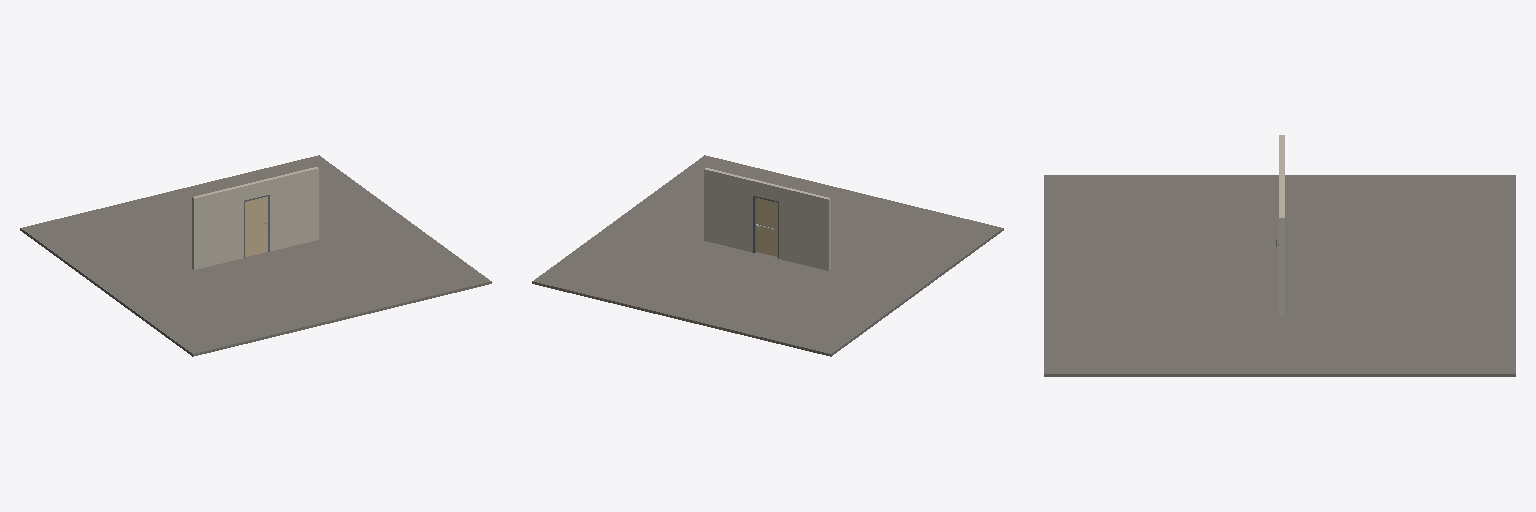
URDF robot description (db0584_swing_single_minimal):
<?xml version="1.0" ?>
<robot xmlns:doorbench="https://github.com/adamraudonis/DoorBench/schema/urdf-ext" name="db0584_swing_single_minimal">
  <link name="world_env">
    <visual name="floor_vis">
      <origin xyz="0 0 -0.05" rpy="0 0 0"/>
      <geometry>
        <box size="12 12 0.1"/>
      </geometry>
      <material name="mat_floor"/>
    </visual>
    <collision name="floor_col">
      <origin xyz="0 0 -0.05" rpy="0 0 0"/>
      <geometry>
        <box size="12 12 0.1"/>
      </geometry>
    </collision>
    <visual name="wall_left_vis">
      <origin xyz="-1.50525 0.0435 1.3735" rpy="0 0 0"/>
      <geometry>
        <box size="1.9895 0.145 2.747"/>
      </geometry>
      <material name="mat_wall"/>
    </visual>
    <collision name="wall_left_col">
      <origin xyz="-1.50525 0.0435 1.3735" rpy="0 0 0"/>
      <geometry>
        <box size="1.9895 0.145 2.747"/>
      </geometry>
    </collision>
    <visual name="wall_right_vis">
      <origin xyz="1.52025 0.0435 1.3735" rpy="0 0 0"/>
      <geometry>
        <box size="1.9595 0.145 2.747"/>
      </geometry>
      <material name="mat_wall"/>
    </visual>
    <collision name="wall_right_col">
      <origin xyz="1.52025 0.0435 1.3735" rpy="0 0 0"/>
      <geometry>
        <box size="1.9595 0.145 2.747"/>
      </geometry>
    </collision>
    <visual name="wall_header_vis">
      <origin xyz="0.015 0.0435 2.487" rpy="0 0 0"/>
      <geometry>
        <box size="1.051 0.145 0.52"/>
      </geometry>
      <material name="mat_wall"/>
    </visual>
    <collision name="wall_header_col">
      <origin xyz="0.015 0.0435 2.487" rpy="0 0 0"/>
      <geometry>
        <box size="1.051 0.145 0.52"/>
      </geometry>
    </collision>
    <visual name="jamb_hinge_vis">
      <origin xyz="-0.4855 0.0435 1.0735" rpy="0 0 0"/>
      <geometry>
        <box size="0.05 0.145 2.147"/>
      </geometry>
      <material name="mat_frame"/>
    </visual>
    <collision name="jamb_hinge_col">
      <origin xyz="-0.4855 0.0435 1.0735" rpy="0 0 0"/>
      <geometry>
        <box size="0.05 0.145 2.147"/>
      </geometry>
    </collision>
    <visual name="strike_1040_wall_n_vis">
      <origin xyz="0.5005 0.0855 1.04" rpy="0 0 0"/>
      <geometry>
        <box size="0.08 0.061 0.04"/>
      </geometry>
      <material name="mat_frame"/>
    </visual>
    <collision name="strike_1040_wall_n_col">
      <origin xyz="0.5005 0.0855 1.04" rpy="0 0 0"/>
      <geometry>
        <box size="0.08 0.061 0.04"/>
      </geometry>
    </collision>
    <visual name="strike_1040_wall_p_vis">
      <origin xyz="0.5005 0.025 1.04" rpy="0 0 0"/>
      <geometry>
        <box size="0.08 0.016 0.04"/>
      </geometry>
      <material name="mat_frame"/>
    </visual>
    <collision name="strike_1040_wall_p_col">
      <origin xyz="0.5005 0.025 1.04" rpy="0 0 0"/>
      <geometry>
        <box size="0.08 0.016 0.04"/>
      </geometry>
    </collision>
    <visual name="strike_1040_ramp_vis">
      <origin xyz="0.508781 -0.0044 1.04" rpy="0 0 0.294235"/>
      <geometry>
        <box size="0.08 0.068964 0.04"/>
      </geometry>
      <material name="mat_frame"/>
    </visual>
    <collision name="strike_1040_ramp_col">
      <origin xyz="0.508781 -0.0044 1.04" rpy="0 0 0.294235"/>
      <geometry>
        <box size="0.08 0.068964 0.04"/>
      </geometry>
    </collision>
    <visual name="strike_1040_back_vis">
      <origin xyz="0.512 0.044 1.04" rpy="0 0 0"/>
      <geometry>
        <box size="0.057 0.022 0.04"/>
      </geometry>
      <material name="mat_frame"/>
    </visual>
    <collision name="strike_1040_back_col">
      <origin xyz="0.512 0.044 1.04" rpy="0 0 0"/>
      <geometry>
        <box size="0.057 0.022 0.04"/>
      </geometry>
    </collision>
    <visual name="jamb_strike_0_vis">
      <origin xyz="0.5005 0.0435 0.51" rpy="0 0 0"/>
      <geometry>
        <box size="0.08 0.145 1.02"/>
      </geometry>
      <material name="mat_frame"/>
    </visual>
    <collision name="jamb_strike_0_col">
      <origin xyz="0.5005 0.0435 0.51" rpy="0 0 0"/>
      <geometry>
        <box size="0.08 0.145 1.02"/>
      </geometry>
    </collision>
    <visual name="jamb_strike_1_vis">
      <origin xyz="0.5005 0.0435 1.6035" rpy="0 0 0"/>
      <geometry>
        <box size="0.08 0.145 1.087"/>
      </geometry>
      <material name="mat_frame"/>
    </visual>
    <collision name="jamb_strike_1_col">
      <origin xyz="0.5005 0.0435 1.6035" rpy="0 0 0"/>
      <geometry>
        <box size="0.08 0.145 1.087"/>
      </geometry>
    </collision>
    <visual name="jamb_head_vis">
      <origin xyz="0.015 0.0435 2.172" rpy="0 0 0"/>
      <geometry>
        <box size="1.051 0.145 0.05"/>
      </geometry>
      <material name="mat_frame"/>
    </visual>
    <collision name="jamb_head_col">
      <origin xyz="0.015 0.0435 2.172" rpy="0 0 0"/>
      <geometry>
        <box size="1.051 0.145 0.05"/>
      </geometry>
    </collision>
    <visual name="head_stud_vis">
      <origin xyz="0.015 0.0435 2.212" rpy="0 0 0"/>
      <geometry>
        <box size="1.051 0.145 0.03"/>
      </geometry>
      <material name="mat_wall"/>
    </visual>
    <collision name="head_stud_col">
      <origin xyz="0.015 0.0435 2.212" rpy="0 0 0"/>
      <geometry>
        <box size="1.051 0.145 0.03"/>
      </geometry>
    </collision>
    <visual name="stop_hinge_vis">
      <origin xyz="-0.455 0.0385 1.0735" rpy="0 0 0"/>
      <geometry>
        <box size="0.011 0.032 2.147"/>
      </geometry>
      <material name="mat_frame"/>
    </visual>
    <collision name="stop_hinge_col">
      <origin xyz="-0.455 0.0385 1.0735" rpy="0 0 0"/>
      <geometry>
        <box size="0.011 0.032 2.147"/>
      </geometry>
    </collision>
    <visual name="stop_strike_vis">
      <origin xyz="0.455 0.0385 0.49625" rpy="0 0 0"/>
      <geometry>
        <box size="0.011 0.032 0.9925"/>
      </geometry>
      <material name="mat_frame"/>
    </visual>
    <collision name="stop_strike_col">
      <origin xyz="0.455 0.0385 0.49625" rpy="0 0 0"/>
      <geometry>
        <box size="0.011 0.032 0.9925"/>
      </geometry>
    </collision>
    <visual name="stop_strike_1_vis">
      <origin xyz="0.455 0.0385 1.61725" rpy="0 0 0"/>
      <geometry>
        <box size="0.011 0.032 1.0595"/>
      </geometry>
      <material name="mat_frame"/>
    </visual>
    <collision name="stop_strike_1_col">
      <origin xyz="0.455 0.0385 1.61725" rpy="0 0 0"/>
      <geometry>
        <box size="0.011 0.032 1.0595"/>
      </geometry>
    </collision>
    <visual name="stop_head_vis">
      <origin xyz="0 0.0385 2.1415" rpy="0 0 0"/>
      <geometry>
        <box size="0.921 0.032 0.011"/>
      </geometry>
      <material name="mat_frame"/>
    </visual>
    <collision name="stop_head_col">
      <origin xyz="0 0.0385 2.1415" rpy="0 0 0"/>
      <geometry>
        <box size="0.921 0.032 0.011"/>
      </geometry>
    </collision>
  </link>
  <link name="leaf">
    <inertial>
      <origin xyz="0.470418 0.030551 1.07387" rpy="0 0 0"/>
      <mass value="57.815147"/>
      <inertia ixx="20.667125875" ixy="-0.016153881" ixz="0.026275449" iyy="24.784758235" iyz="0.00303802" izz="4.153971404"/>
    </inertial>
    <visual name="leaf_slab_vis">
      <origin xyz="0.457 0.029 1.076" rpy="0 0 0"/>
      <geometry>
        <box size="0.914 0.044 2.134"/>
      </geometry>
      <material name="mat_leaf"/>
    </visual>
    <collision name="leaf_slab_col">
      <origin xyz="0.457 0.029 1.076" rpy="0 0 0"/>
      <geometry>
        <box size="0.914 0.044 2.134"/>
      </geometry>
    </collision>
    <visual name="leaf_exit_device_rail_vis">
      <origin xyz="0.51695 0.057 1.04" rpy="0 0 0"/>
      <geometry>
        <box size="0.6341 0.012 0.05"/>
      </geometry>
      <material name="mat_op_aluminum"/>
    </visual>
    <collision name="leaf_exit_device_rail_col">
      <origin xyz="0.51695 0.057 1.04" rpy="0 0 0"/>
      <geometry>
        <box size="0.6341 0.012 0.05"/>
      </geometry>
    </collision>
    <visual name="leaf_exit_device_rail_end_n_vis">
      <origin xyz="0.2099 0.0835 1.04" rpy="0 0 0"/>
      <geometry>
        <box size="0.02 0.065 0.05"/>
      </geometry>
      <material name="mat_op_aluminum"/>
    </visual>
    <collision name="leaf_exit_device_rail_end_n_col">
      <origin xyz="0.2099 0.0835 1.04" rpy="0 0 0"/>
      <geometry>
        <box size="0.02 0.065 0.05"/>
      </geometry>
    </collision>
    <visual name="leaf_exit_device_rail_end_p_vis">
      <origin xyz="0.824 0.0835 1.04" rpy="0 0 0"/>
      <geometry>
        <box size="0.02 0.065 0.05"/>
      </geometry>
      <material name="mat_op_aluminum"/>
    </visual>
    <collision name="leaf_exit_device_rail_end_p_col">
      <origin xyz="0.824 0.0835 1.04" rpy="0 0 0"/>
      <geometry>
        <box size="0.02 0.065 0.05"/>
      </geometry>
    </collision>
    <visual name="leaf_exit_device_case_vis">
      <origin xyz="0.868 0.085125 1.04" rpy="0 0 0"/>
      <geometry>
        <box size="0.068 0.06825 0.075"/>
      </geometry>
      <material name="mat_op_aluminum"/>
    </visual>
    <collision name="leaf_exit_device_case_col">
      <origin xyz="0.868 0.085125 1.04" rpy="0 0 0"/>
      <geometry>
        <box size="0.068 0.06825 0.075"/>
      </geometry>
    </collision>
    <visual name="leaf_far_pull_n_vis">
      <origin xyz="0.824 0.007 1.04" rpy="1.570796 0 0"/>
      <geometry>
        <mesh filename="../../hardware/pull_1e5d69a91a.obj"/>
      </geometry>
      <material name="mat_op_stainless"/>
    </visual>
    <collision name="leaf_far_pull_col_n_col">
      <origin xyz="0.824 -0.053 1.04" rpy="0 0 0"/>
      <geometry>
        <cylinder radius="0.0095" length="0.16"/>
      </geometry>
    </collision>
  </link>
  <link name="leaf_exit_device">
    <inertial>
      <origin xyz="0 0.05 0" rpy="0 0 0"/>
      <mass value="2.381805"/>
      <inertia ixx="0.000580565" ixy="0" ixz="0" iyy="0.069049839" iyz="0" izz="0.068826545"/>
    </inertial>
    <collision name="leaf_exit_device_pad_col_col">
      <origin xyz="0 0.05 0" rpy="0 0 0"/>
      <geometry>
        <box size="0.5881 0.03 0.045"/>
      </geometry>
    </collision>
  </link>
  <link name="leaf_latch_bolt">
    <inertial>
      <origin xyz="-0.0055 0 0" rpy="0 0 0"/>
      <mass value="0.102826"/>
      <inertia ixx="0.000004365" ixy="0" ixz="0" iyy="0.000018287" iyz="0" izz="0.000018287"/>
    </inertial>
    <visual name="leaf_latch_bolt_capsule_vis">
      <origin xyz="-0.0055 0 0" rpy="0 1.570796 0"/>
      <geometry>
        <cylinder radius="0.0095" length="0.03"/>
      </geometry>
      <material name="mat_bolt"/>
    </visual>
    <collision name="leaf_latch_bolt_capsule_col">
      <origin xyz="-0.0055 0 0" rpy="0 1.570796 0"/>
      <geometry>
        <cylinder radius="0.0095" length="0.03"/>
      </geometry>
    </collision>
  </link>
  <joint name="leaf_hinge" type="revolute">
    <origin xyz="-0.4575 -0.029 0" rpy="0 0 0"/>
    <parent link="world_env"/>
    <child link="leaf"/>
    <axis xyz="0 0 -1"/>
    <limit lower="0" upper="1.570796" effort="2000" velocity="10"/>
    <dynamics damping="12.268966" friction="1.361343"/>
    <doorbench:spring stiffness="13.852846" springref="-2.233476" note="tau = -stiffness*(q - springref); not native URDF"/>
    <doorbench:closer damping_closing="90" damping_opening="12" backcheck_angle="1.22" backcheck_damping="60"/>
  </joint>
  <joint name="leaf_exit_device_slide" type="prismatic">
    <origin xyz="0.51695 0.051 1.04" rpy="0 0 0"/>
    <parent link="leaf"/>
    <child link="leaf_exit_device"/>
    <axis xyz="0 -1 0"/>
    <limit lower="0" upper="0.016" effort="5000" velocity="10"/>
    <dynamics damping="117.294962" friction="0.5"/>
    <doorbench:spring stiffness="700" springref="-0.011429" note="tau = -stiffness*(q - springref); not native URDF"/>
  </joint>
  <joint name="leaf_latch_bolt_slide" type="prismatic">
    <origin xyz="0.914 0.073 1.04" rpy="0 0 0"/>
    <parent link="leaf"/>
    <child link="leaf_latch_bolt"/>
    <axis xyz="-1 0 0"/>
    <limit lower="0" upper="0.019" effort="5000" velocity="10"/>
    <dynamics damping="2" friction="0.3"/>
    <doorbench:spring stiffness="800" springref="-0.01" note="tau = -stiffness*(q - springref); not native URDF"/>
    <mimic joint="leaf_exit_device_slide" multiplier="1.357143" offset="0"/>
    <doorbench:coupling one_sided="true" note="MJCF uses a one-sided tendon (bolt may retract further, e.g. riding over the strike lip); mimic is bilateral"/>
  </joint>
  <material name="mat_bolt">
    <color rgba="0.75 0.76 0.77 1"/>
  </material>
  <material name="mat_floor">
    <color rgba="0.55 0.53 0.5 1"/>
  </material>
  <material name="mat_frame">
    <color rgba="0.45 0.48 0.52 1"/>
  </material>
  <material name="mat_leaf">
    <color rgba="0.82 0.75 0.62 1"/>
  </material>
  <material name="mat_op_aluminum">
    <color rgba="0.8 0.81 0.83 1"/>
  </material>
  <material name="mat_op_stainless">
    <color rgba="0.75 0.76 0.77 1"/>
  </material>
  <material name="mat_wall">
    <color rgba="0.78 0.76 0.7 1"/>
  </material>
</robot>

--- Render facts (derived) ---
3 views of the same robot in one strip: view 1: azimuth 30°, elevation 25°; view 2: azimuth 150°, elevation 25°; view 3: azimuth 270°, elevation 25° (orthographic).
Model db0584_swing_single_minimal with 4 links and 3 joints (1 revolute, 2 prismatic), rooted at world_env, posed every joint at zero.
Links seen in each view (by area): view 1: world_env, leaf; view 2: world_env, leaf; view 3: world_env.
Boxes of the visible links, <box> form: world_env: <box>20,155,491,356</box>; leaf: <box>245,196,267,256</box>; world_env: <box>532,155,1003,356</box>; leaf: <box>756,198,777,256</box>; world_env: <box>1044,135,1515,376</box>.
Size in the robot's own frame: 12 by 12 by 2.85 metres.
1 mesh visuals loaded from 1 distinct referenced files (1 OBJ).
